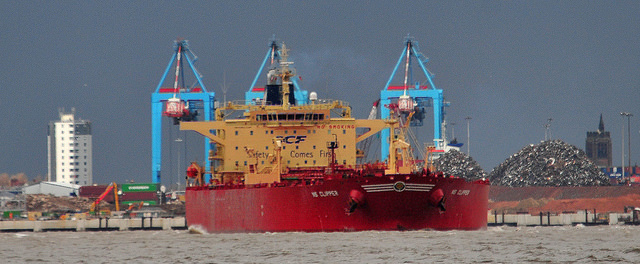tanker: (168, 53, 491, 228)
